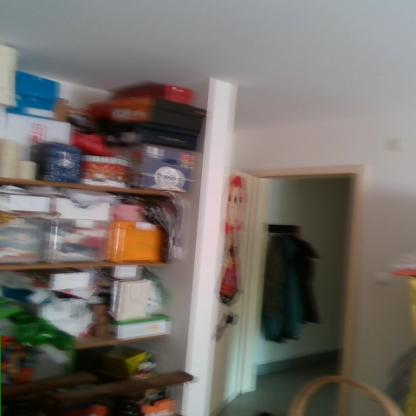open: (209, 156, 362, 414)
